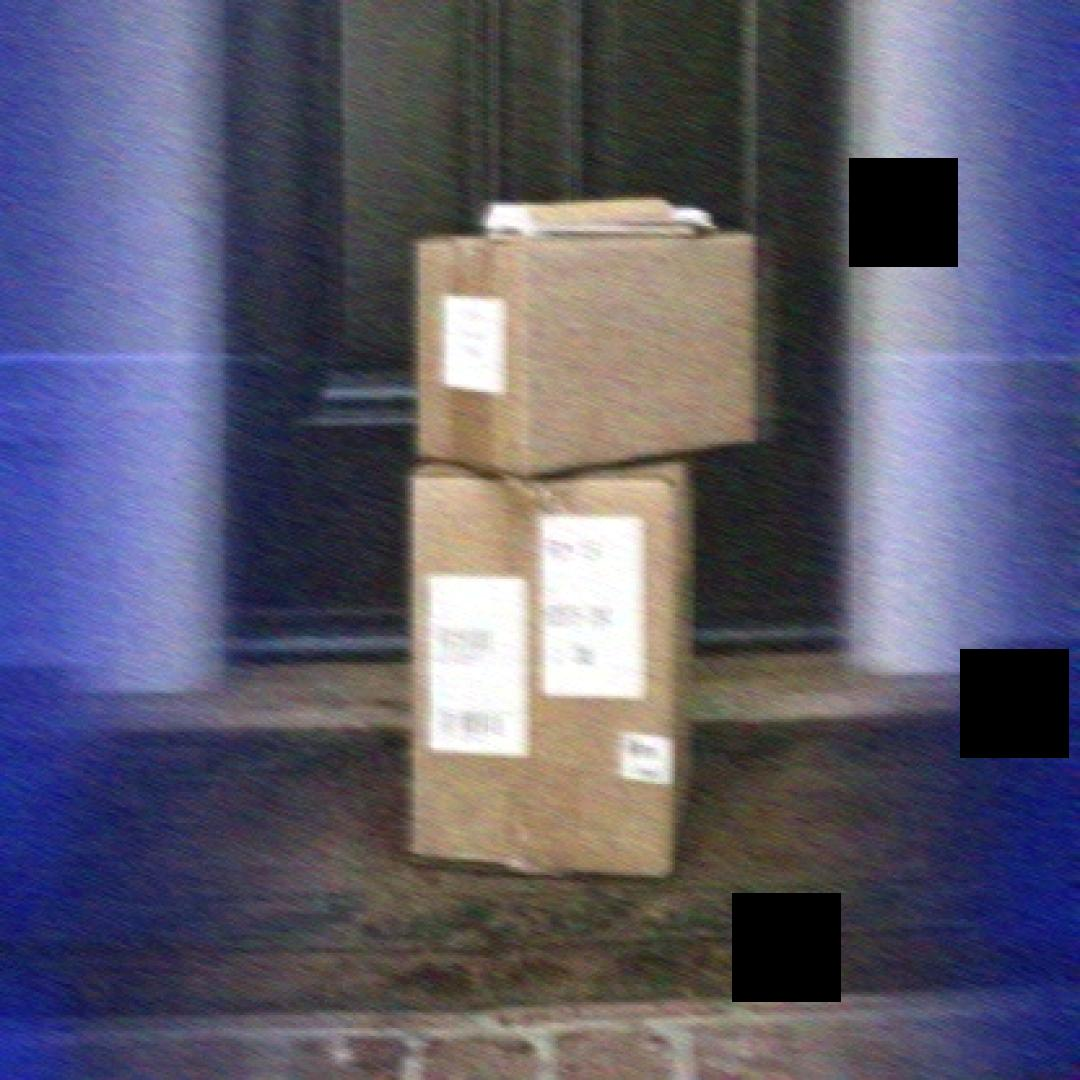package: (411, 449, 696, 885), (420, 231, 768, 480)
